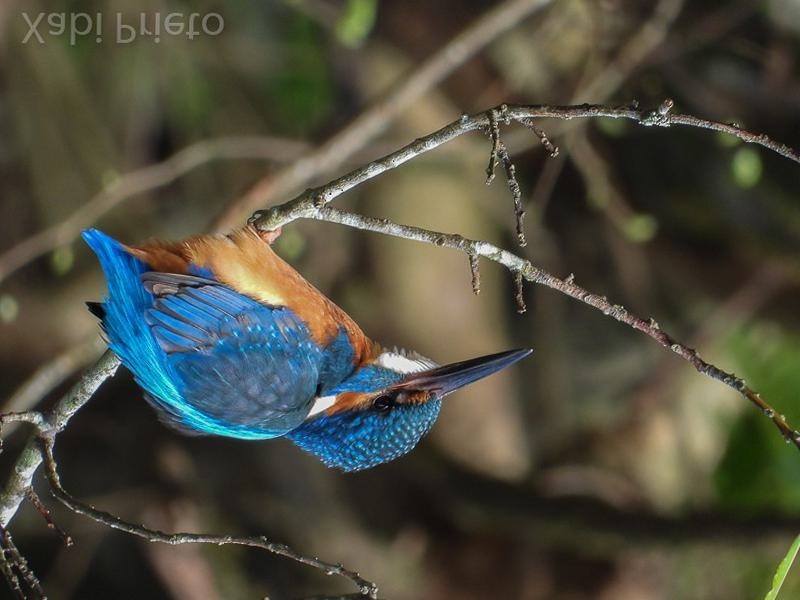kingfisher: (89, 195, 536, 482)
